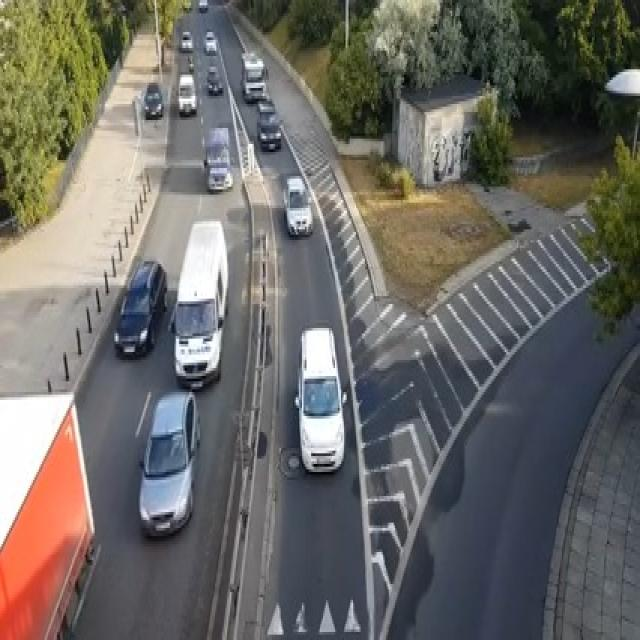bus: (0, 390, 95, 638), (168, 216, 228, 389)
car: (137, 389, 200, 539), (293, 325, 347, 472), (112, 259, 166, 357), (203, 125, 233, 192), (282, 174, 312, 238), (240, 51, 266, 101), (255, 112, 281, 149), (177, 72, 197, 115), (141, 80, 164, 117), (206, 64, 222, 93), (255, 96, 275, 115), (203, 30, 216, 54), (179, 29, 192, 51), (198, 0, 208, 11), (188, 56, 194, 72)
